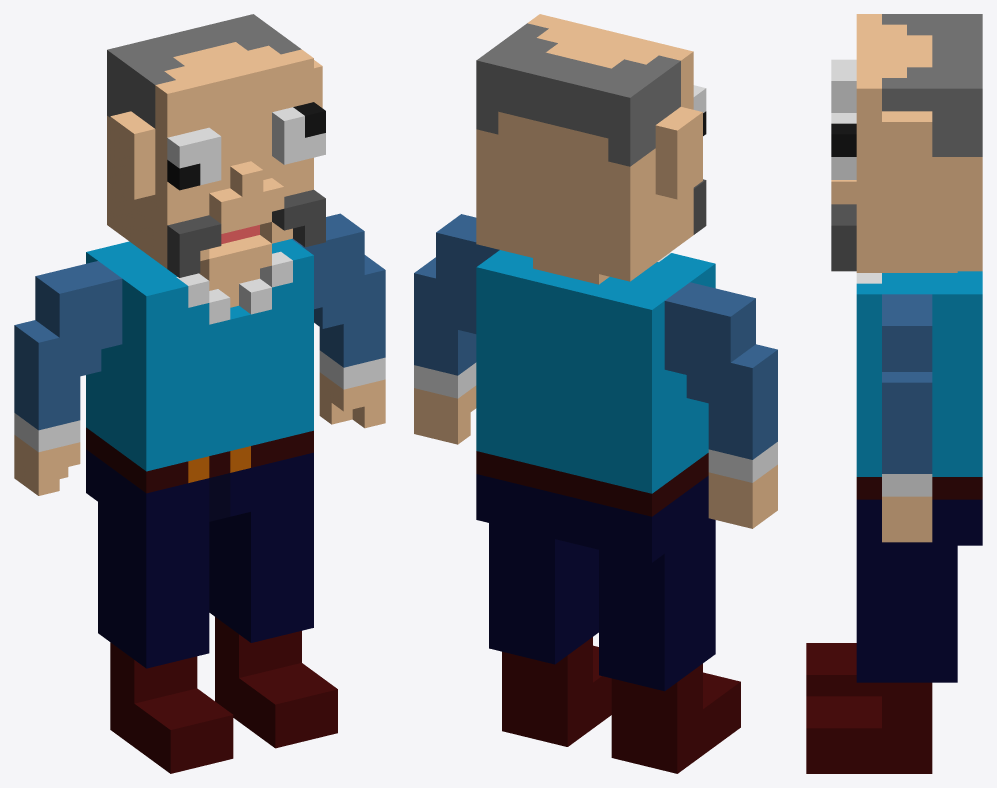
Rendered from kolo2.obj.
The picture shows the model from 3 angles, left to right: view 1: azimuth 30°, elevation 25°; view 2: azimuth 150°, elevation 25°; view 3: azimuth 270°, elevation 25°; orthographic projection. The views are drawn at different scales.
Bounding box in the file's own units: 16 × 30 × 7.
